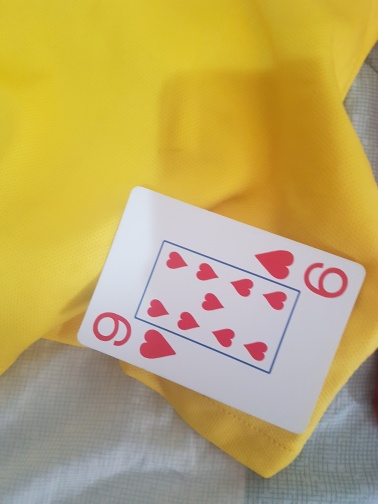nine: (78, 185, 365, 439)
